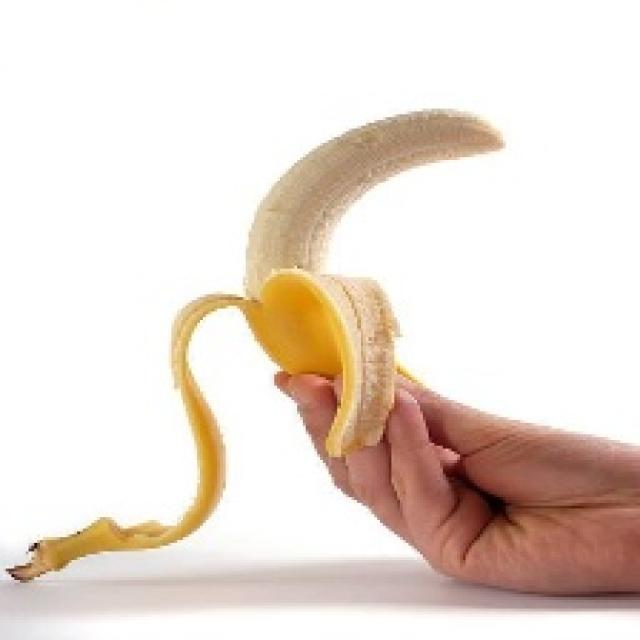Banana: (3, 106, 506, 583)
